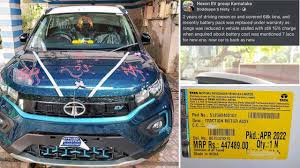Tata Nexon: (2, 4, 175, 168)
